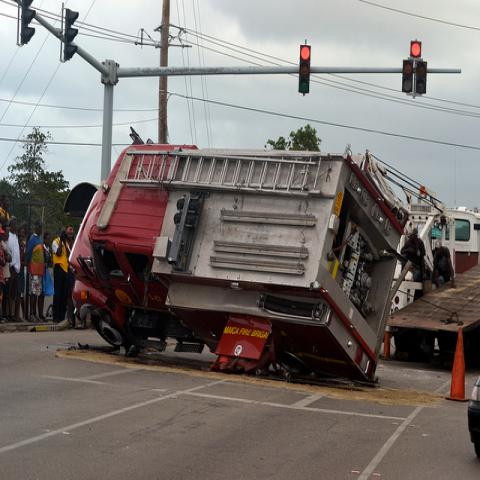car: (467, 374, 479, 459)
truck: (62, 128, 426, 390)
